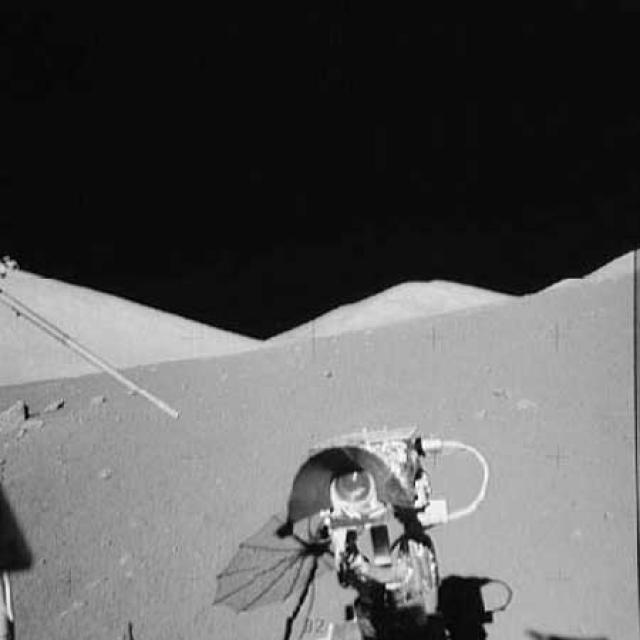artifact: (273, 425, 505, 639), (0, 254, 183, 426)
rock: (0, 392, 30, 424), (43, 390, 68, 416)
